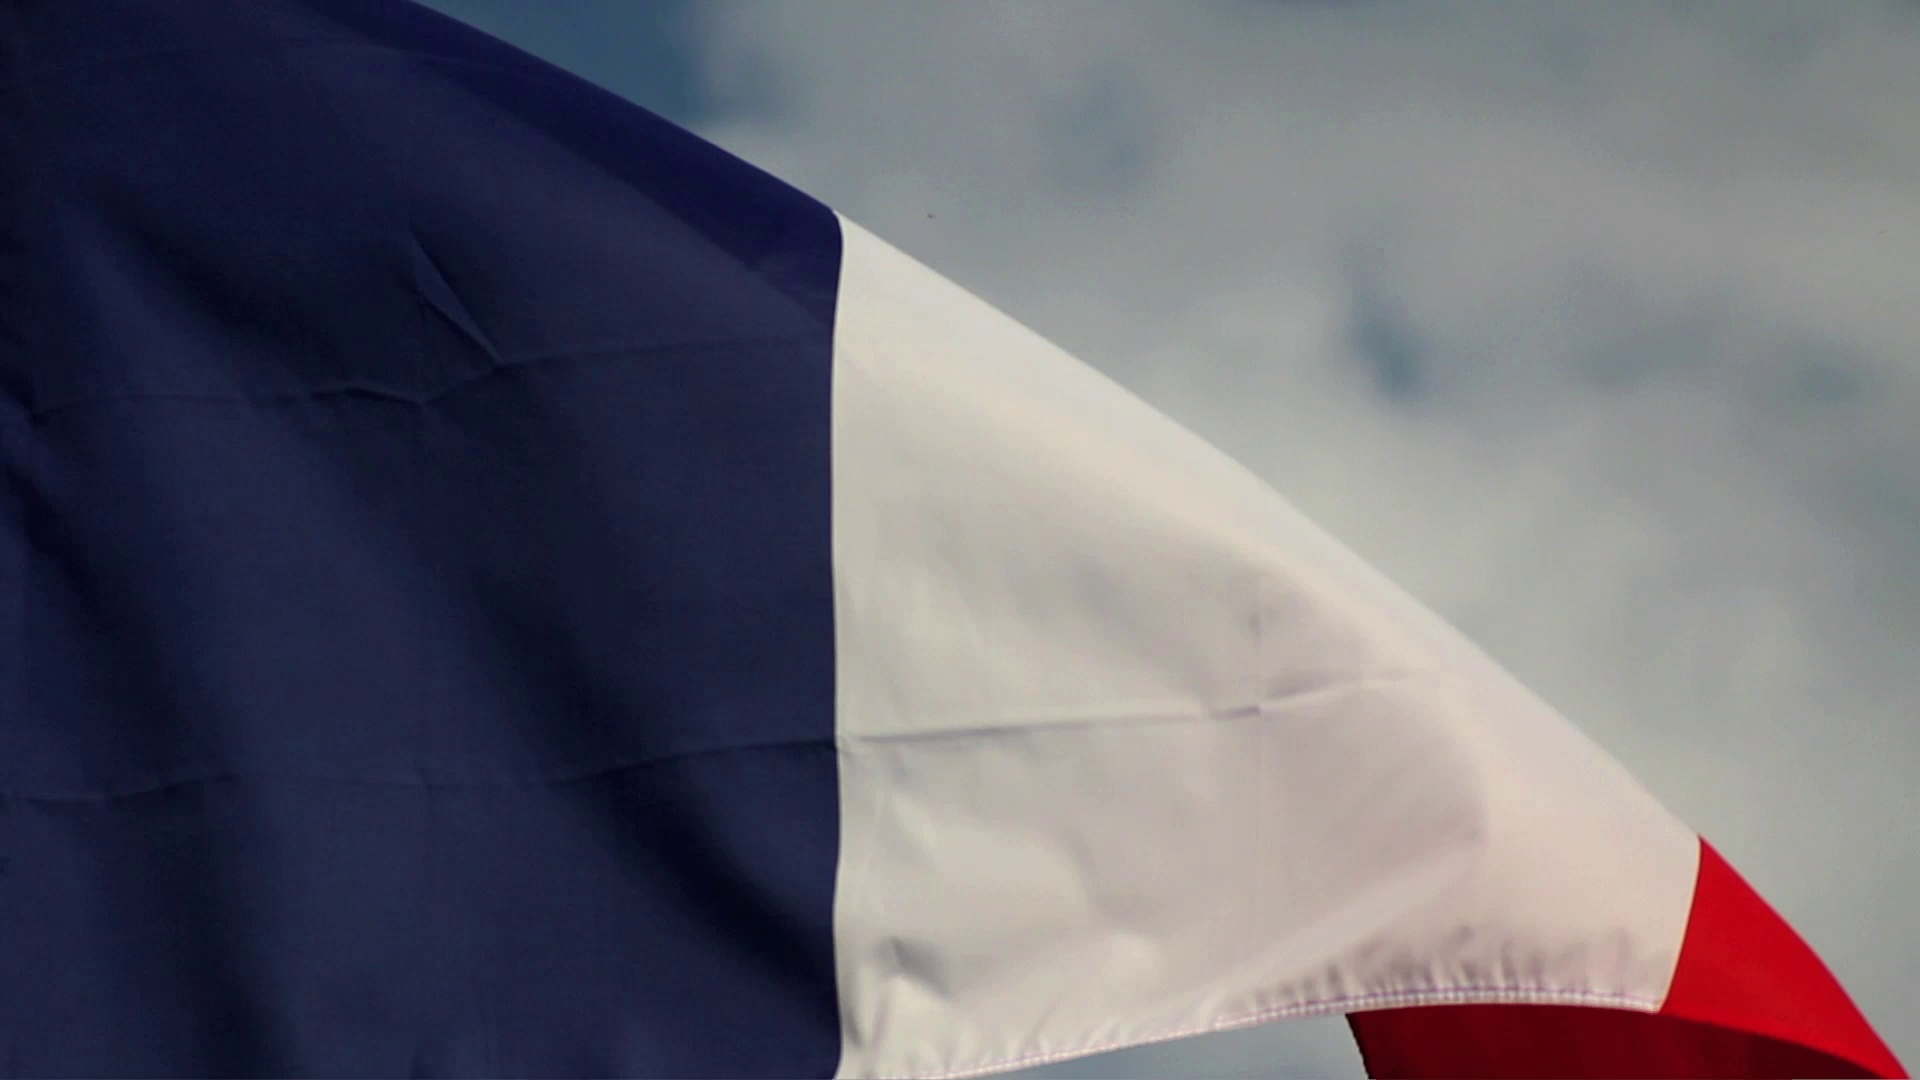French Flag: (1, 1, 1894, 1080)
